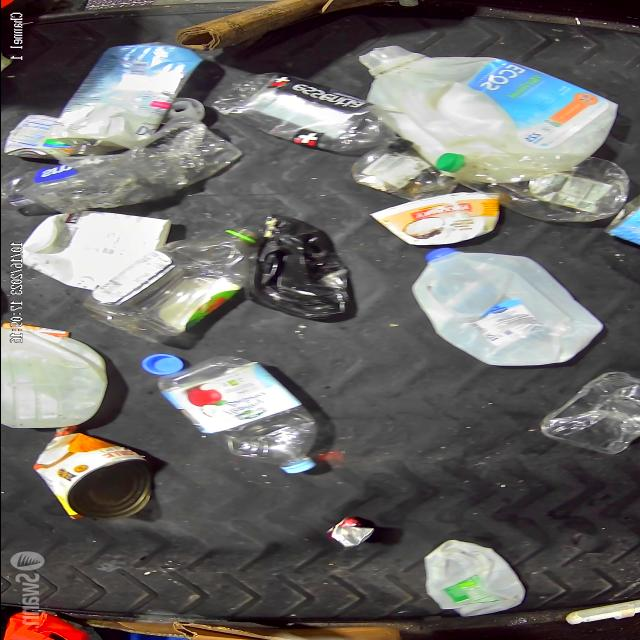can: (33, 432, 153, 518), (330, 516, 374, 552)
milk_jug: (360, 48, 608, 164), (415, 243, 599, 367), (44, 46, 192, 148), (1, 320, 106, 430), (419, 543, 520, 618)
plastic_bottle: (158, 358, 320, 472), (88, 230, 253, 338), (0, 148, 205, 216), (426, 156, 609, 222)
